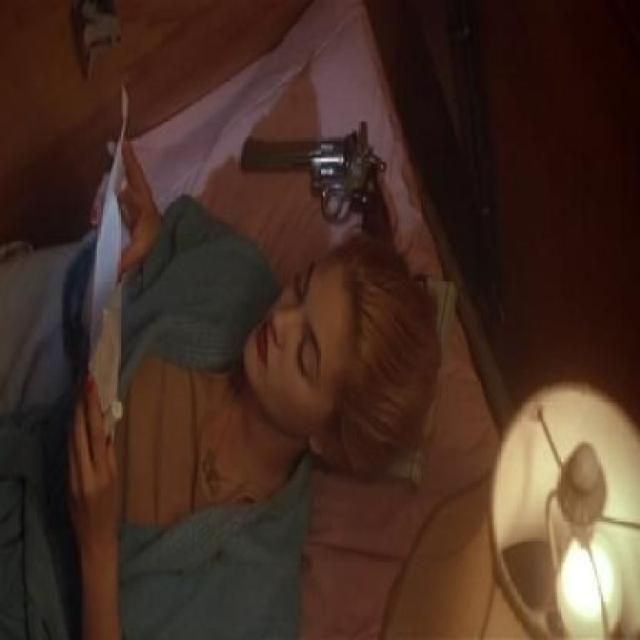gun: (230, 111, 406, 234)
